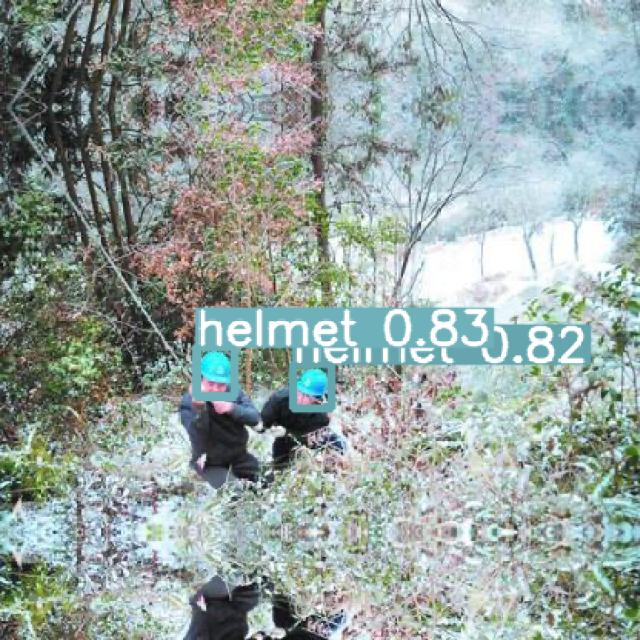helmet: (195, 346, 234, 396), (292, 363, 331, 408)
